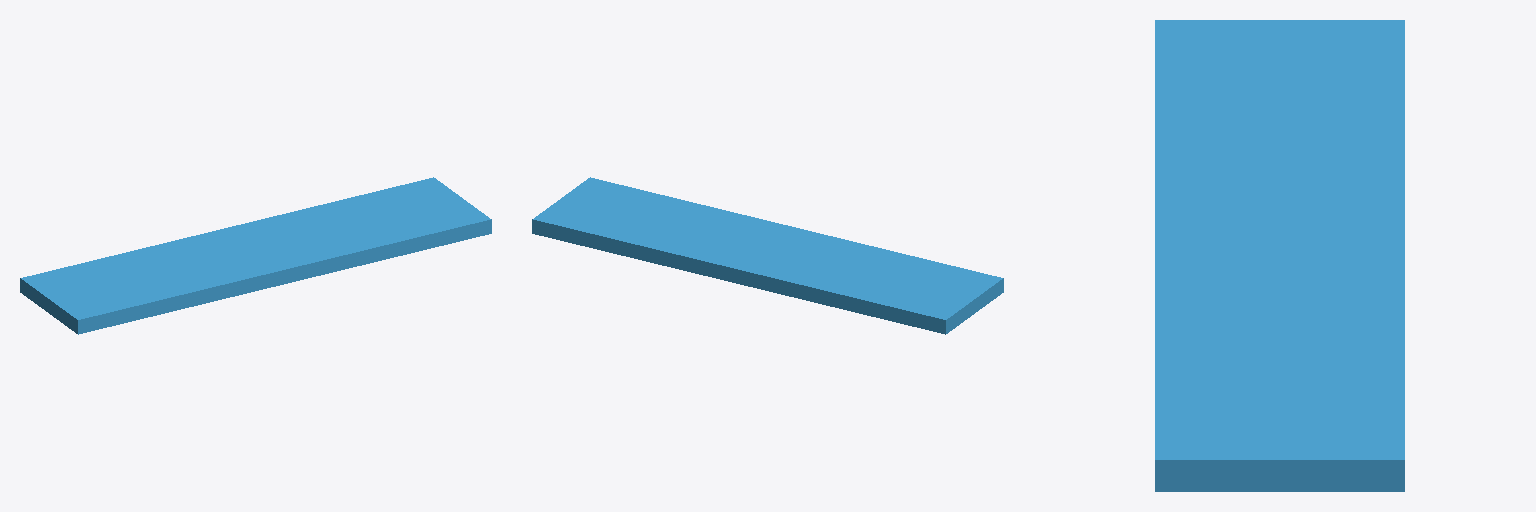
URDF robot description (cylinder_30):
    
    <robot name="cylinder_30">
        <link name="cylinder_30">    
            <fem>
                <origin rpy="0.0 0.0 0.0" xyz="0 0 0" />
                <density value="100" />
                <youngs value="10955"/>
                <poissons value="0.3" />
                <damping value="0.0" />
                <attachDistance value="0.01" />
                <tetmesh filename="[local-path]/sim_data/Custom/Custom_mesh/multi_cylinder_10kPa/cylinder_30.tet" />
                <scale value="0.5"/>
            </fem>
        </link>

        <link name="fix_frame">
            <visual>
                <origin xyz="0.0 0.0 10.06157945139463"/>
                <geometry>
                    <box size="0.15 0.03610266478951925 0.005"/>
                </geometry>
            </visual>
            <collision>
                <origin xyz="0.0 0.0 0.061579451394630266"/>
                <geometry>
                    <box size="0.15 0.03610266478951925 0.005"/>
                </geometry>
            </collision>
            <inertial>
                <mass value="500000"/>
                <inertia ixx="0.05" ixy="0.0" ixz="0.0" iyy="0.05" iyz="0.0" izz="0.05"/>
            </inertial>
        </link>
        
        <joint name = "attach" type = "fixed">
            <origin xyz = "0.0 0.0 0.0" rpy = "0 0 0"/>
            <parent link ="cylinder_30"/>
            <child link = "fix_frame"/>
        </joint>  




    </robot>
    

--- Render facts (derived) ---
The picture shows the robot from 3 angles, left to right: view 1: azimuth 30°, elevation 25°; view 2: azimuth 150°, elevation 25°; view 3: azimuth 270°, elevation 25°; orthographic projection.
Robot: cylinder_30 — 2 links, 1 joints (1 fixed); root link cylinder_30; default pose: every joint at zero.
Visible links, largest first — view 1: fix_frame; view 2: fix_frame; view 3: fix_frame.
Boxes of the visible links, x1,y1,x2,y2 form: fix_frame: (20, 177, 491, 334); fix_frame: (532, 177, 1003, 334); fix_frame: (1155, 20, 1404, 491).
Size in the robot's own frame: 0.15 by 0.0361 by 0.005 metres.
Geometry: primitives only (box / cylinder / sphere), no mesh files.